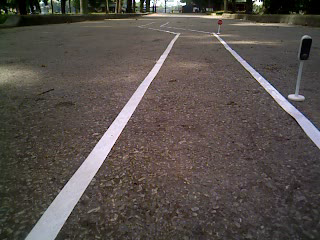Blue: (297, 34, 314, 64)
